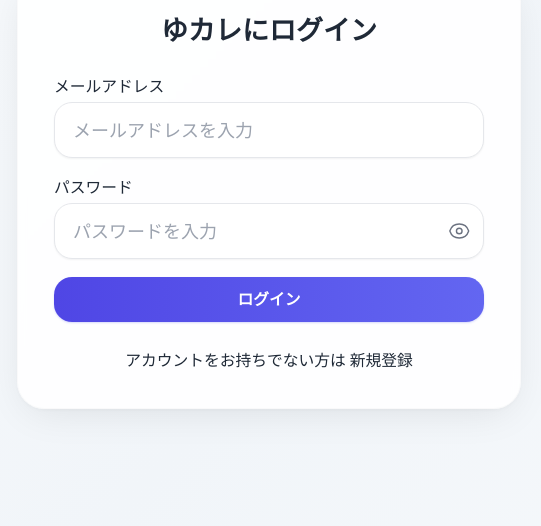
it: LoginPage › when not authenticated › should display error when login fails
This screenshot has width=541, height=526.
In the field labelled "メールアドレス": {"x": 269, "y": 130} [54, 102, 484, 158], type "test@example.com"
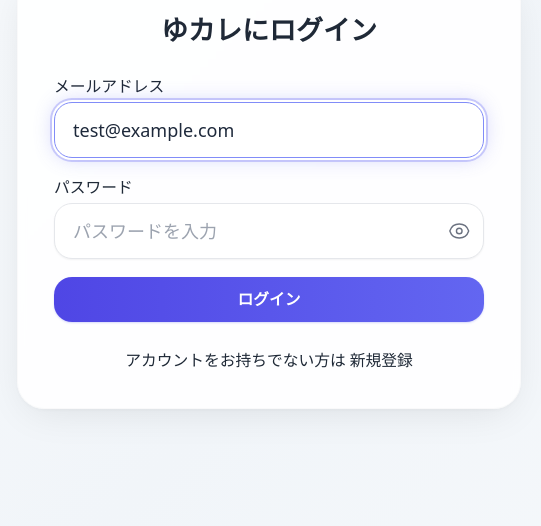
In the password field labelled "パスワード": {"x": 269, "y": 231} [54, 203, 484, 259], type "wrongpassword"
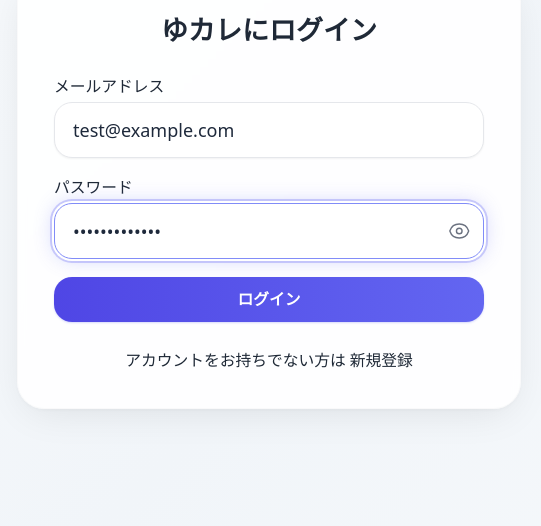
Click the button "ログイン": {"x": 269, "y": 300} [54, 277, 484, 322]
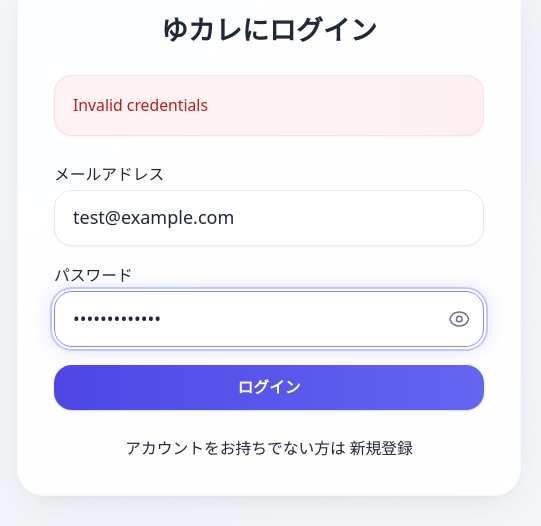
Result: the text "Invalid credentials" is shown at [54, 75, 484, 136]
